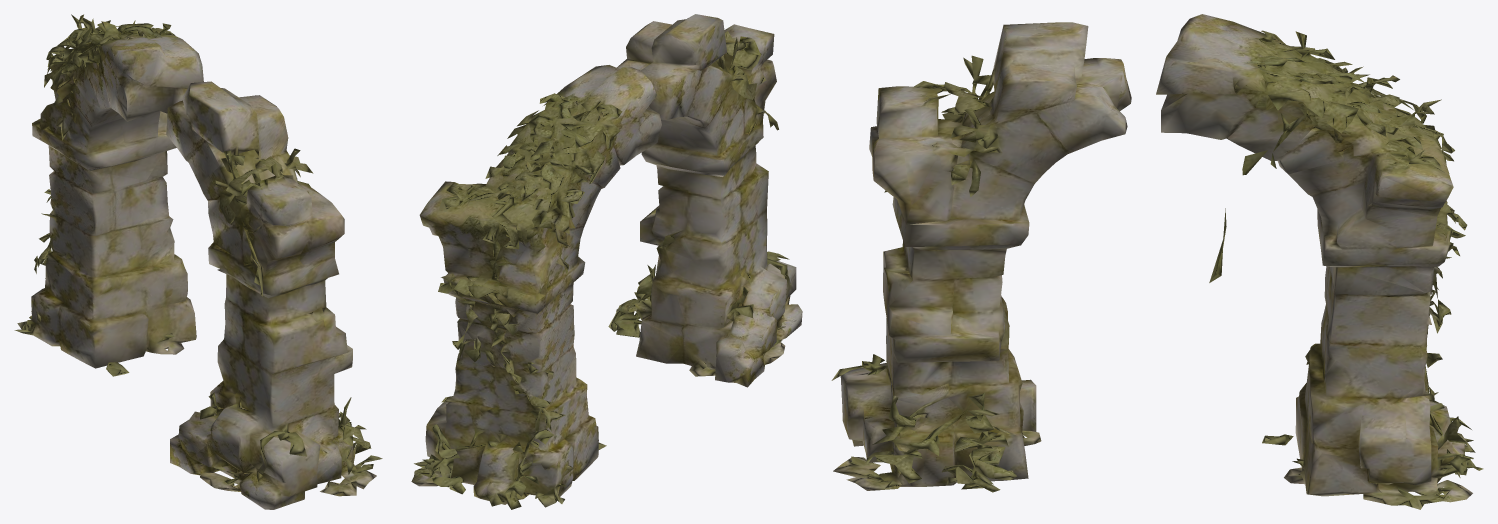
The model's file is ruin_arch_c.glb.
The picture shows the model from 3 angles, left to right: view 1: azimuth 30°, elevation 25°; view 2: azimuth 150°, elevation 25°; view 3: azimuth 270°, elevation 25°; orthographic projection. The views are drawn at different scales.
Parts seen in each view (by area): view 1: ruin_arch_c__arch; view 2: ruin_arch_c__arch; view 3: ruin_arch_c__arch.
Boxes of the visible parts, x1=… form: ruin_arch_c__arch: x1=14, y1=14, x2=382, y2=509; ruin_arch_c__arch: x1=411, y1=14, x2=802, y2=509; ruin_arch_c__arch: x1=831, y1=14, x2=1483, y2=509.
Size of the model in its own units: 1.3 by 2.57 by 3.61.
1 material, 1 textured.
